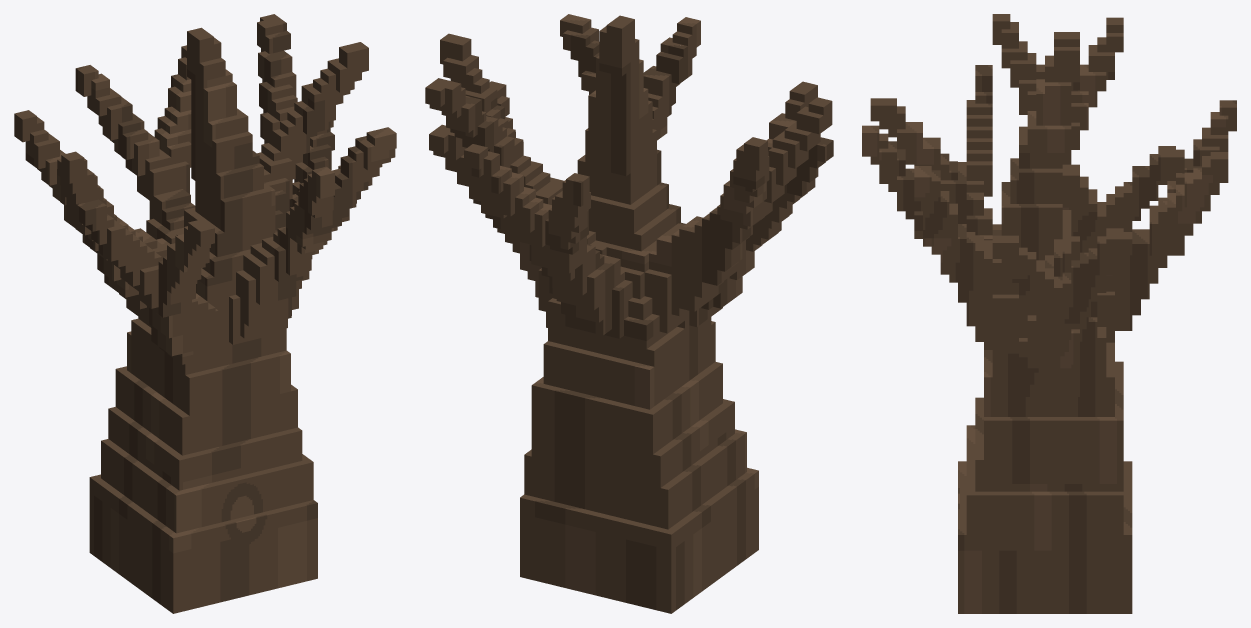
Rendered from apple_ancient_winter.glb.
The picture shows the model from 3 angles, left to right: view 1: azimuth 30°, elevation 25°; view 2: azimuth 150°, elevation 25°; view 3: azimuth 270°, elevation 25°; orthographic projection. The views are drawn at different scales.
Visible parts, largest first — view 1: VoxelVisual; view 2: VoxelVisual; view 3: VoxelVisual.
Part boxes in pixels (x1,y1,x2,y2): VoxelVisual: (14,14,396,613); VoxelVisual: (425,14,833,613); VoxelVisual: (862,14,1236,613).
Size of what is drawn, in the model's own units: 11.5 by 17.25 by 10.75.
